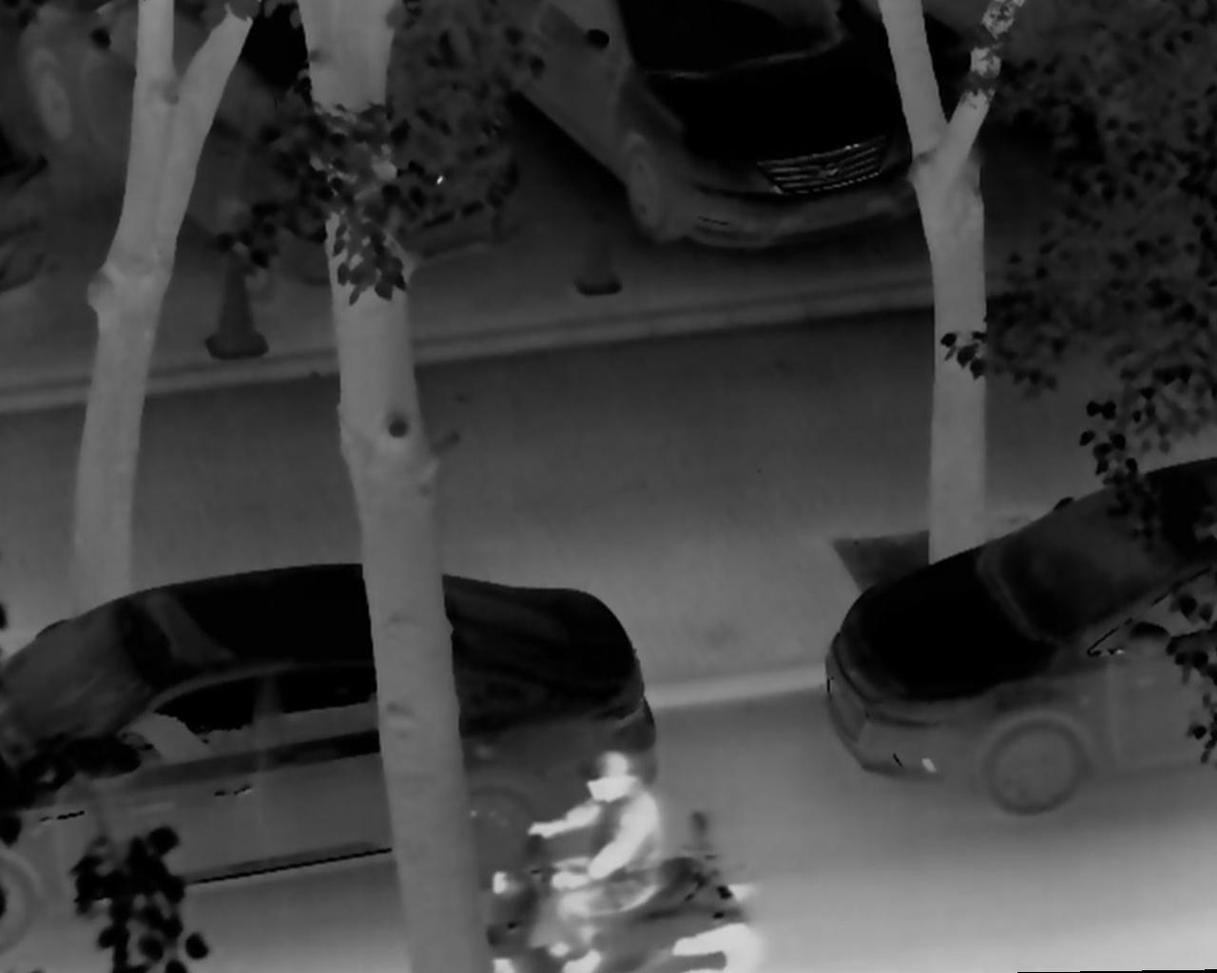person: (505, 748, 666, 973)
